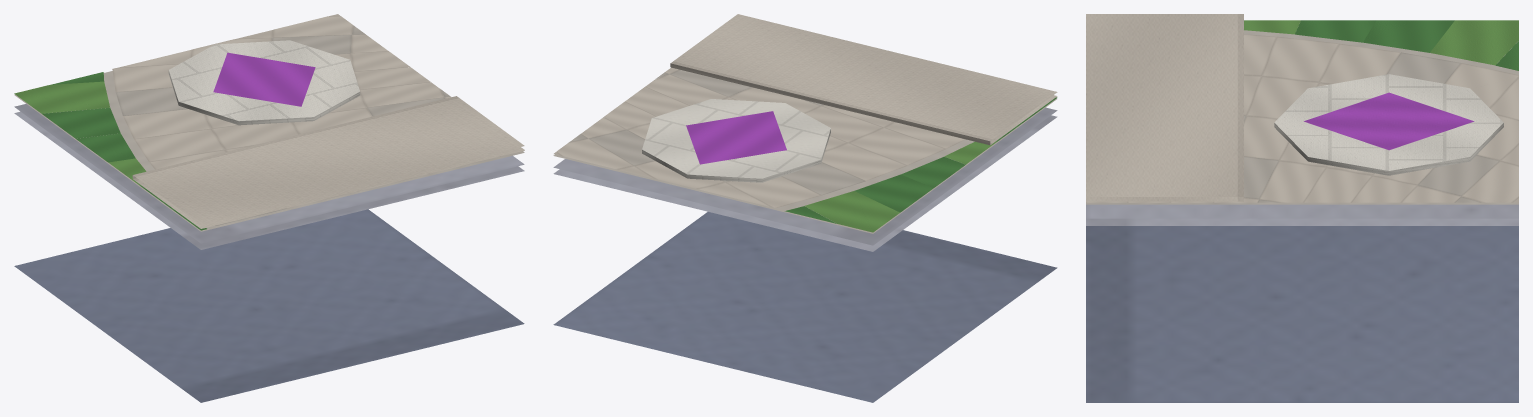
The model's file is high_crown_fracture_11.obj.
3 views of the same model, side by side, from view 1: azimuth 30°, elevation 25°; view 2: azimuth 150°, elevation 25°; view 3: azimuth 270°, elevation 25° (orthographic). The views are drawn at different scales.
Visible parts, largest first — view 1: ArenaFracture11; view 2: ArenaFracture11; view 3: ArenaFracture11.
Boxes of the visible parts, bbox=[...] form: ArenaFracture11: bbox=[14, 14, 524, 402]; ArenaFracture11: bbox=[553, 14, 1057, 402]; ArenaFracture11: bbox=[1086, 14, 1518, 402].
Bounding box in the file's own units: 10 × 5.31 × 10.
Materials: 8 (8 with a texture image).
